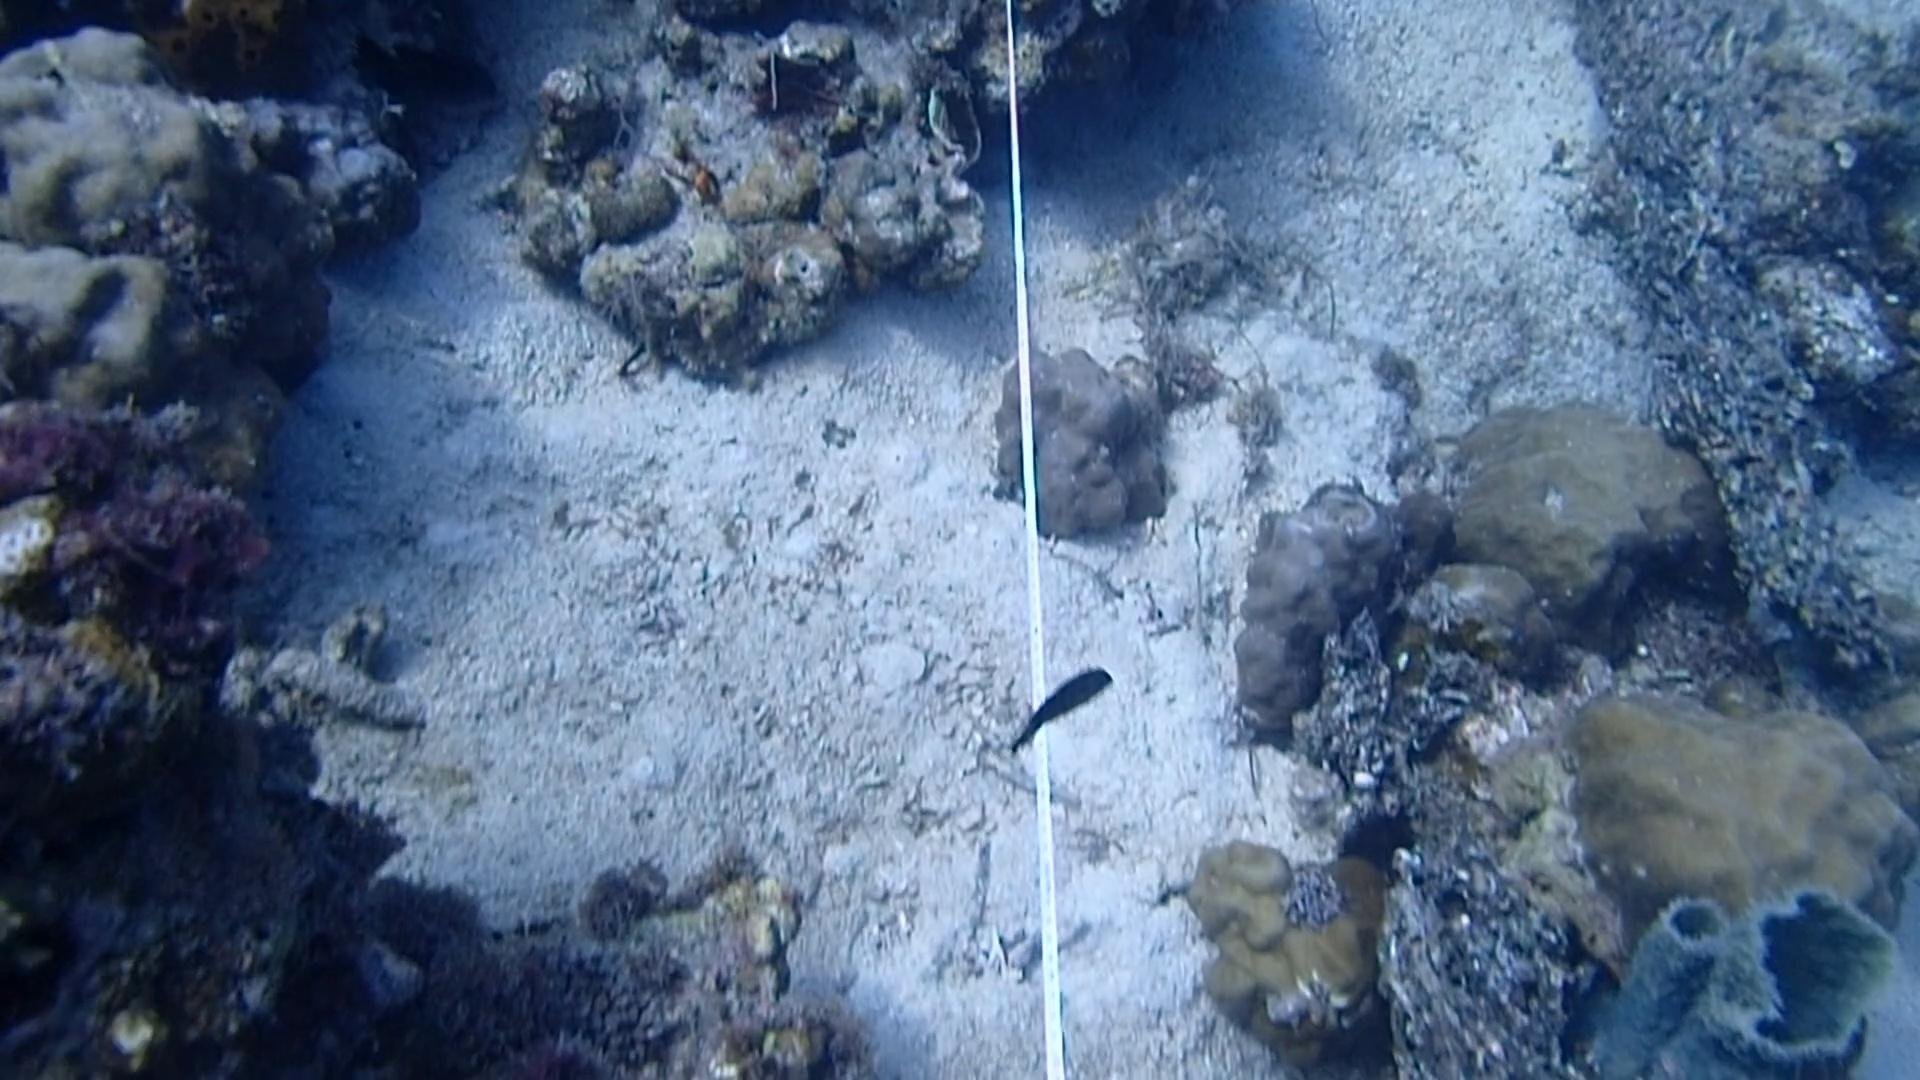Big Dark Blue Fish: (342, 29, 506, 117)
Dark Fish: (998, 651, 1134, 757)
